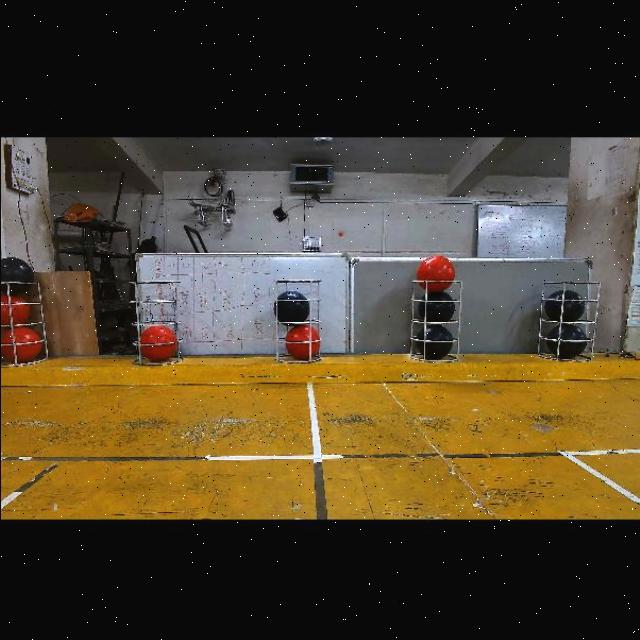P: (545, 322, 586, 358), (415, 324, 452, 360), (272, 290, 308, 325), (0, 256, 33, 294), (544, 289, 583, 321), (417, 290, 454, 322)
R: (0, 326, 40, 362), (416, 255, 454, 292), (138, 325, 175, 361), (284, 324, 319, 360), (0, 294, 30, 327)
S: (534, 278, 600, 364), (127, 279, 185, 366), (406, 278, 462, 364), (272, 276, 322, 364), (0, 279, 50, 366)
